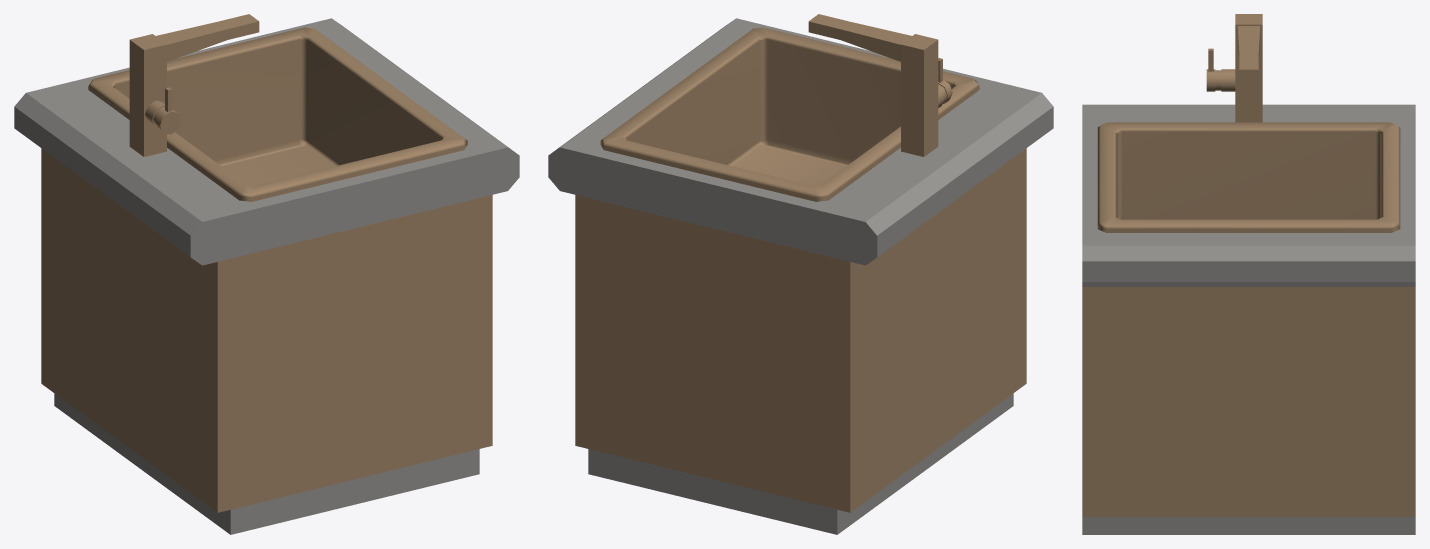
Rendered from SM_Bench_Sink 1.fbx.
The picture shows the model from 3 angles, left to right: view 1: azimuth 30°, elevation 25°; view 2: azimuth 150°, elevation 25°; view 3: azimuth 270°, elevation 25°; orthographic projection. The views are drawn at different scales.
Visible parts, largest first — view 1: SM_Bench_Sink; view 2: SM_Bench_Sink; view 3: SM_Bench_Sink.
Boxes of the visible parts, x1,y1,x2,y2 form: SM_Bench_Sink: (14,14,519,534); SM_Bench_Sink: (548,14,1053,534); SM_Bench_Sink: (1082,14,1415,534).
Bounding box in the file's own units: 1.08 × 1.33 × 1.
